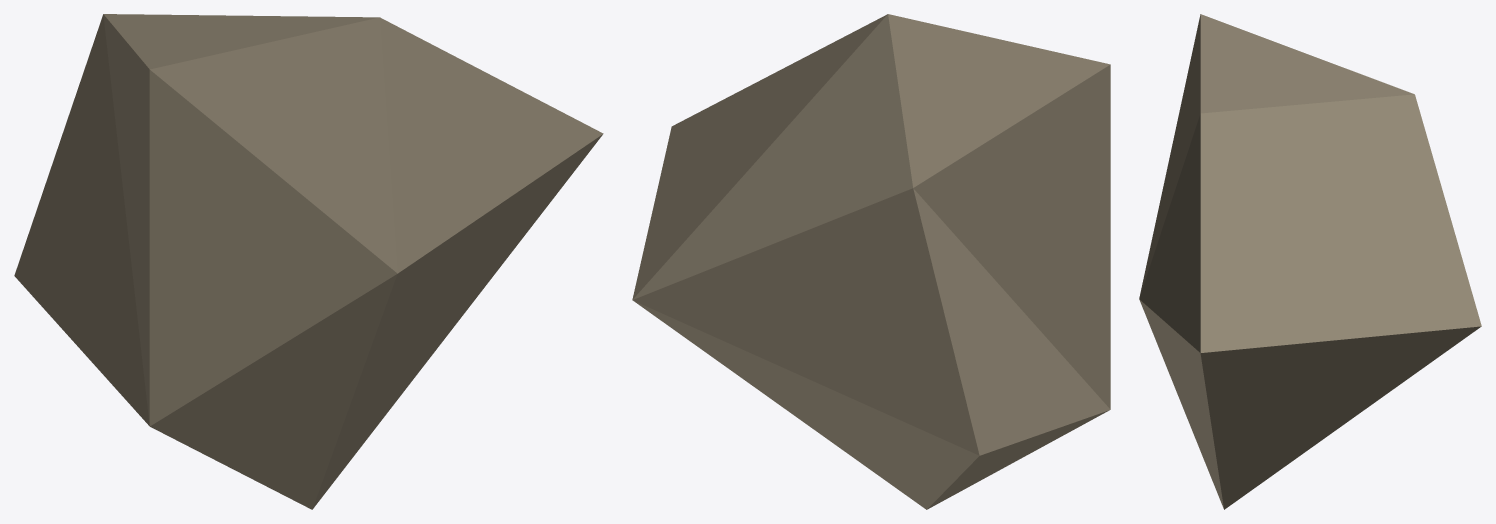
Rendered from Stone_02_Baked.fbx.
The picture shows the model from 3 angles, left to right: view 1: azimuth 30°, elevation 25°; view 2: azimuth 150°, elevation 25°; view 3: azimuth 270°, elevation 25°; orthographic projection. The views are drawn at different scales.
Parts seen in each view (by area): view 1: Stone02; view 2: Stone02; view 3: Stone02.
Boxes of the visible parts, left/top/right/bottom form: Stone02: left=14, top=14, right=603, bottom=509; Stone02: left=632, top=14, right=1110, bottom=509; Stone02: left=1139, top=14, right=1481, bottom=509.
Bounding box in the file's own units: 77.62 × 80.66 × 59.32.
